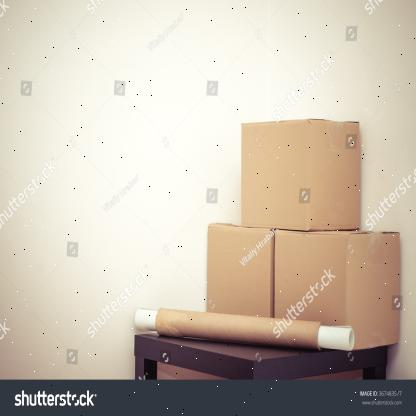box: (240, 118, 361, 227), (274, 228, 348, 330), (205, 222, 270, 315)
